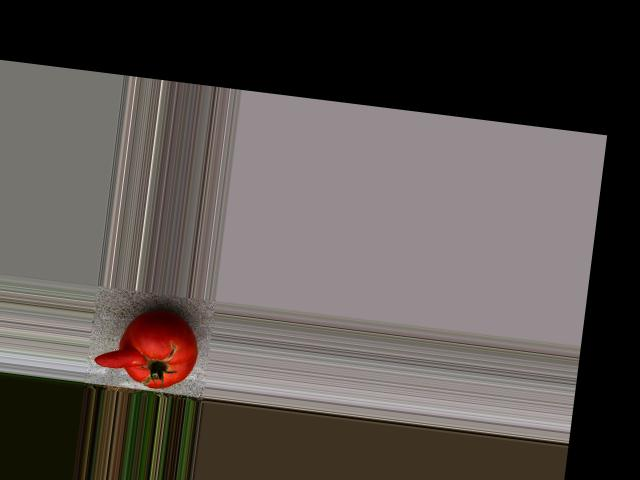tomato: (114, 307, 203, 393)
